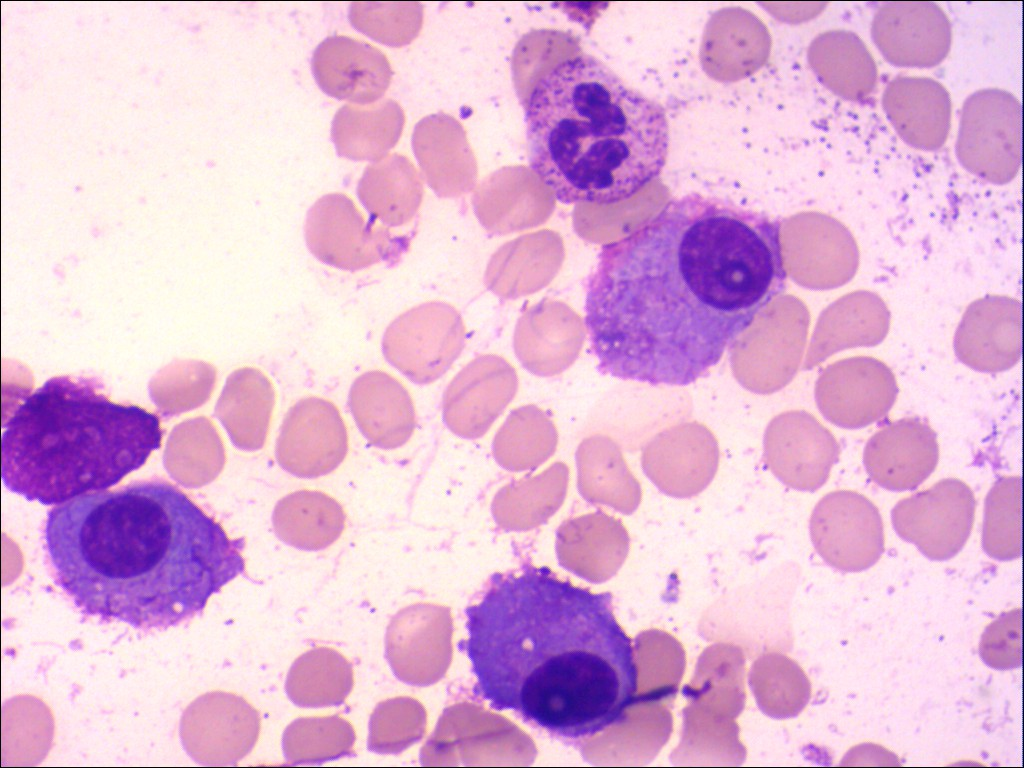5: (522, 53, 674, 208)
51: (583, 187, 789, 391), (455, 565, 642, 744), (42, 474, 250, 633)
x: (1, 375, 166, 507)
